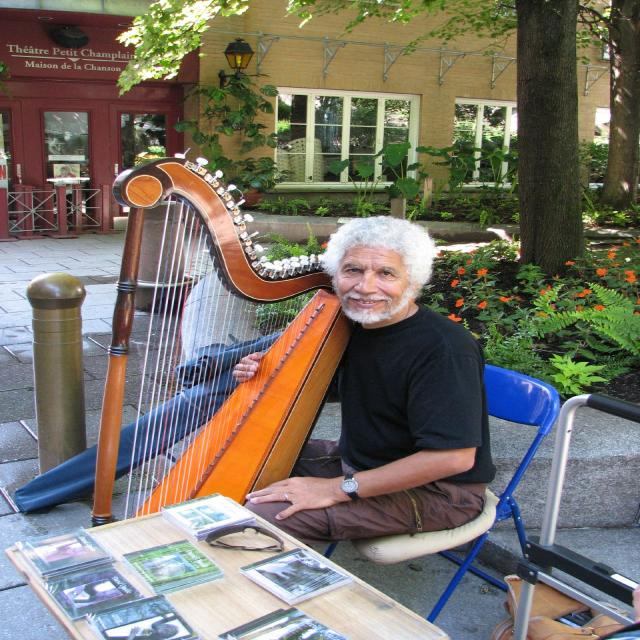harp: (81, 153, 370, 531)
